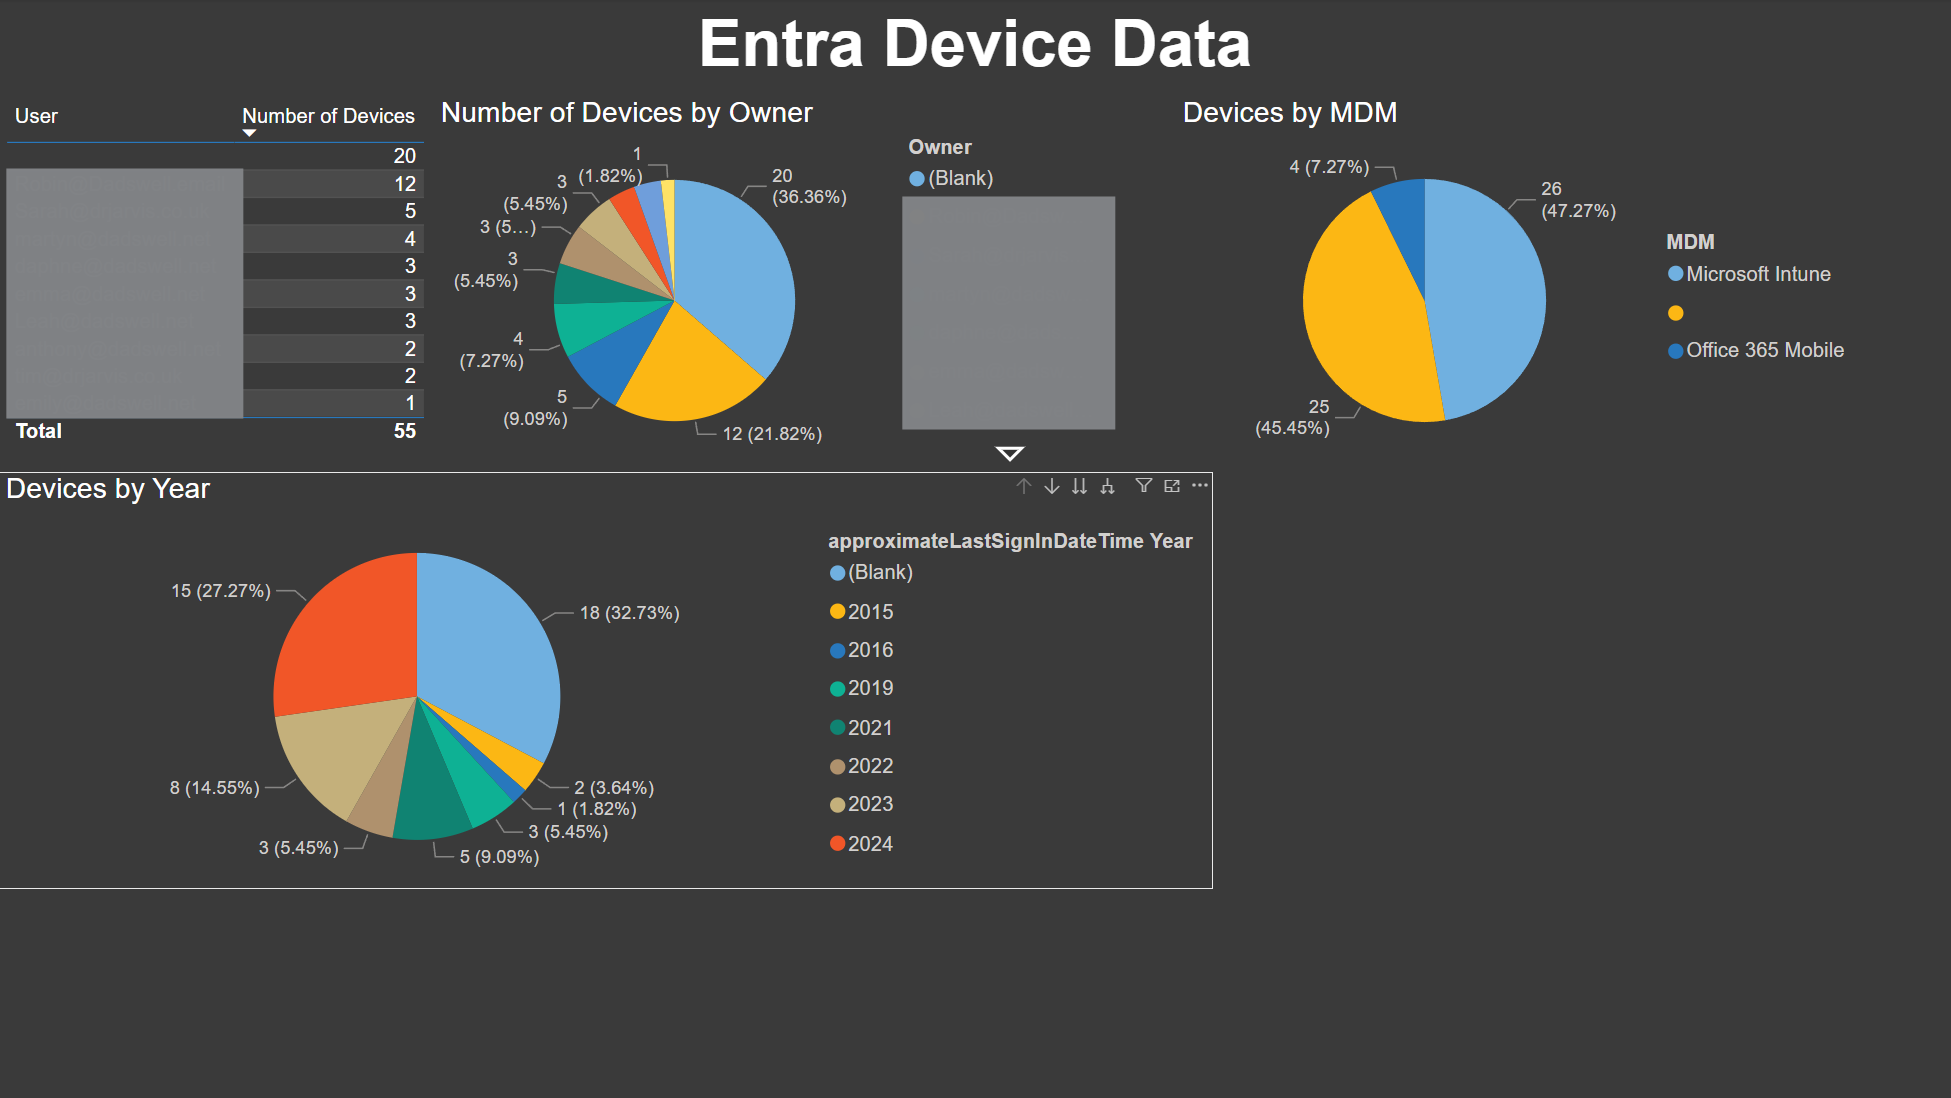

This screenshot's page, from the dashboard's own definition file:
{"tool":"powerbi","page":{"name":"Devices","canvas":[1280,720],"ordinal":5},"visuals":[{"type":"tableEx","fields":{"Values":["Users.userPrincipalName","Devices.displayName"]},"box":[0,63.2,318.3,246.9],"z":0},{"type":"textbox","box":[0,0,1280,63.2],"z":1000},{"type":"pieChart","fields":{"Category":["Users.userPrincipalName"],"Y":["Devices.displayName"]},"box":[284.9,63.2,448.5,246.9],"z":2000},{"type":"pieChart","fields":{"Category":["Devices.mdmDisplayName"],"Y":["Devices.displayName"]},"box":[771.3,63.2,452.9,246.9],"z":3000},{"type":"pieChart","fields":{"Y":["Devices.displayName"],"Category":["Devices.approximateLastSignInDateTime.Variation.Date Hierarchy.Year","Devices.approximateLastSignInDateTime.Variation.Date Hierarchy.Quarter","Devices.approximateLastSignInDateTime.Variation.Date Hierarchy.Month","Devices.approximateLastSignInDateTime.Variation.Date Hierarchy.Day"]},"box":[0,310.1,795.8,273],"z":4000}]}

Visuals, with their boxes in screenshot pixels (x1, y1, x2, y2), scaled from the page's 1280x720 canvas onto the 1951x1098 screenshot:
tableEx - Users.userPrincipalName x Devices.displayName: [0, 96, 485, 473]
textbox: [0, 0, 1950, 96]
pieChart - Users.userPrincipalName x Devices.displayName: [434, 96, 1118, 473]
pieChart - Devices.mdmDisplayName x Devices.displayName: [1176, 96, 1866, 473]
pieChart - Devices.displayName x Devices.approximateLastSignInDateTime.Variation.Date Hierarchy.Year: [0, 473, 1213, 889]
